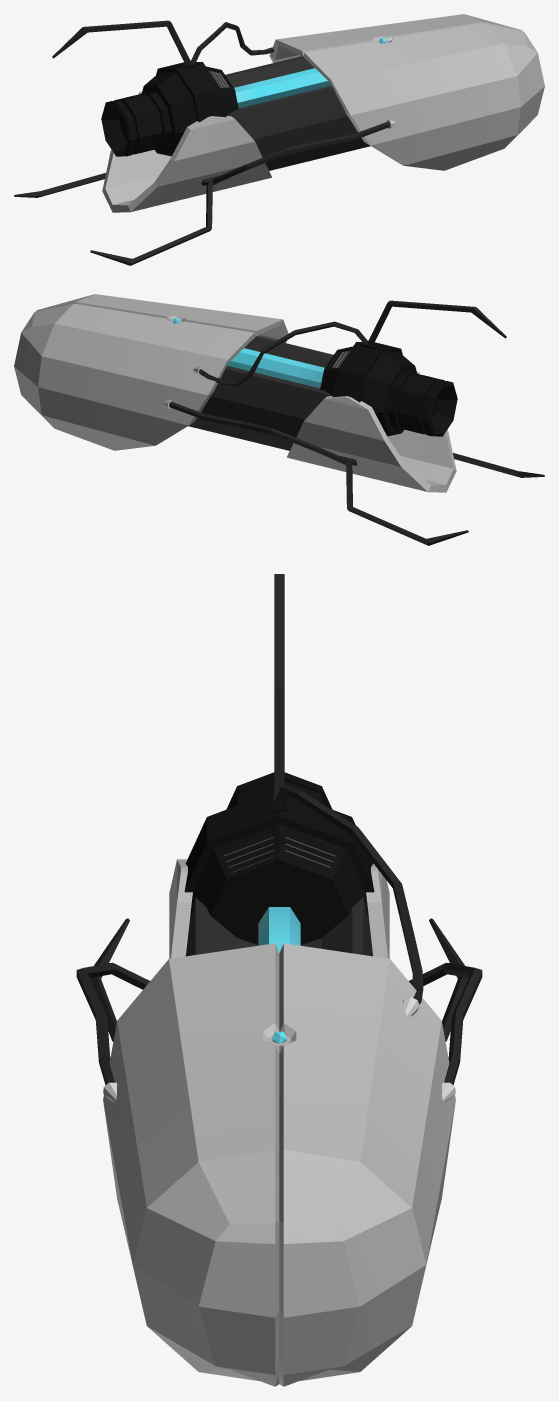
File: Portal Gun.fbx
The picture shows the model from 3 angles, top to bottom: view 1: azimuth 30°, elevation 25°; view 2: azimuth 150°, elevation 25°; view 3: azimuth 270°, elevation 25°; orthographic projection. The views are drawn at different scales.
Parts seen in each view (by area): view 1: Portal Gun; view 2: Portal Gun; view 3: Portal Gun.
Part boxes in pixels (x1,y1,x2,y2): Portal Gun: (14, 14, 544, 265); Portal Gun: (14, 294, 544, 545); Portal Gun: (76, 574, 482, 1386).
Bounding box in the file's own units: 120 × 49.62 × 43.51.
